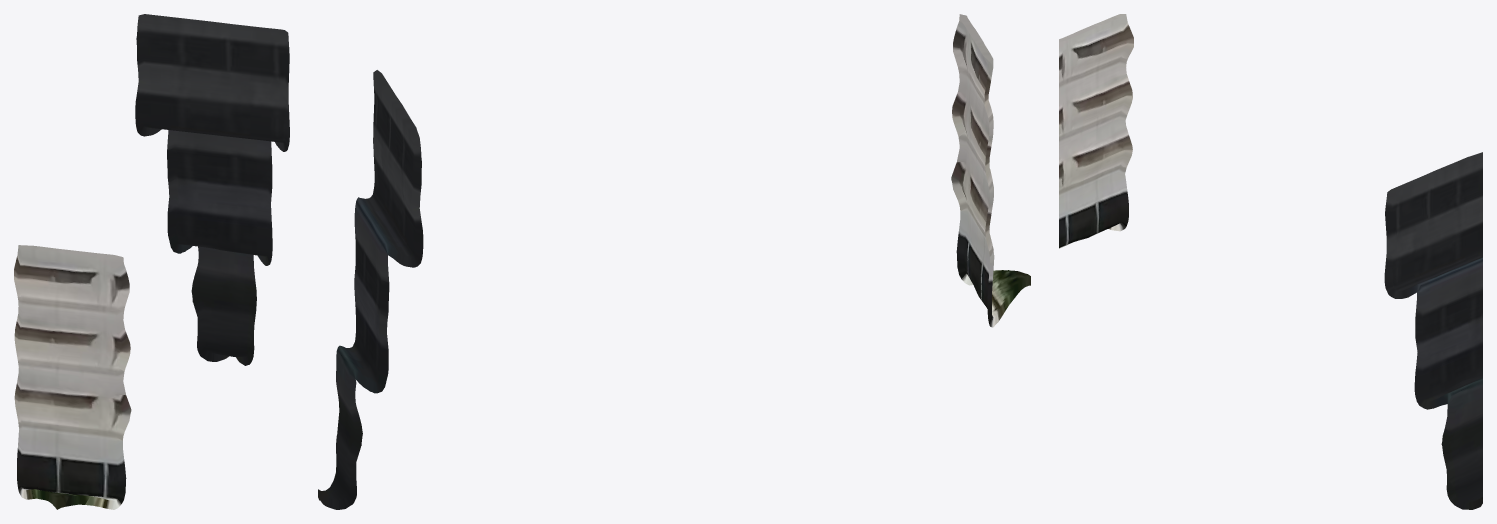
The model's file is z20-167784-405229-h0-yup-uvflip-v3-world.glb.
3 renders of one model, left to right at view 1: azimuth 30°, elevation 25°; view 2: azimuth 150°, elevation 25°; view 3: azimuth 270°, elevation 25°, orthographic. The views are drawn at different scales.
Size of the model in its own units: 30.16 by 25.08 by 30.32.
Materials: 1 (1 with a texture image).
